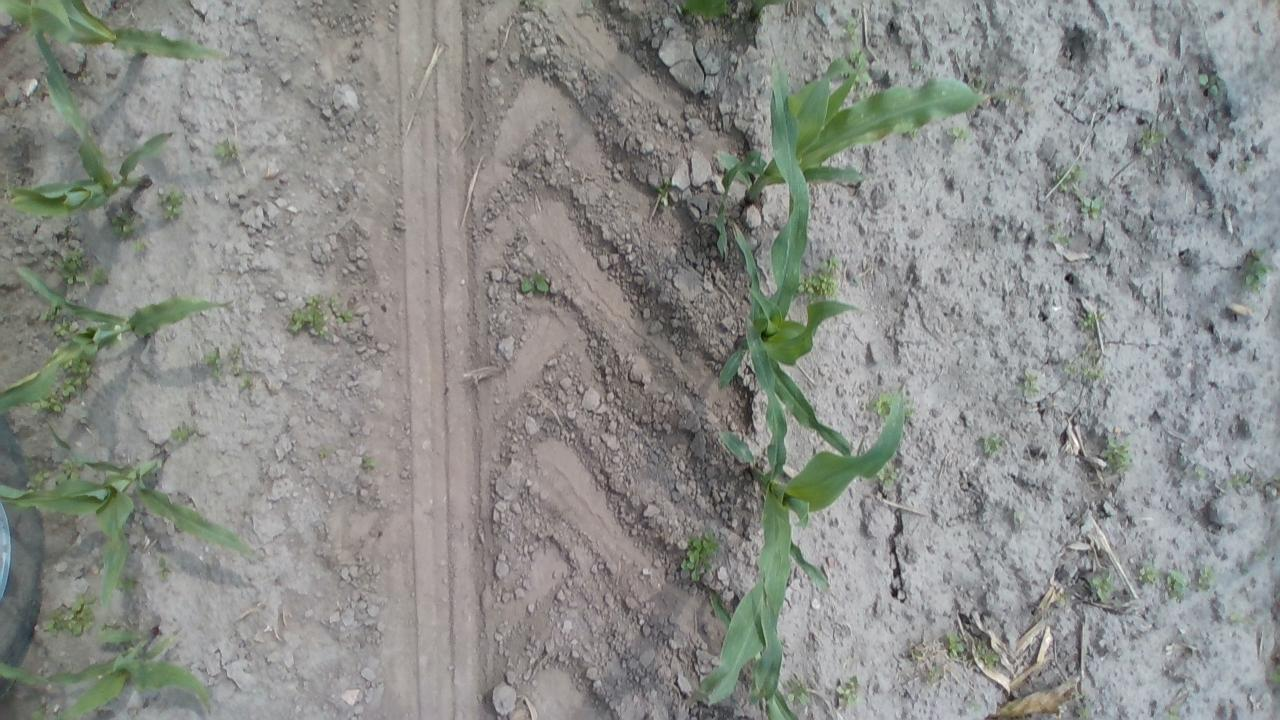Maize: (694, 316, 911, 712), (708, 42, 1024, 255), (716, 90, 862, 458), (0, 428, 260, 632), (0, 254, 230, 422), (1, 27, 178, 219), (1, 6, 202, 161), (0, 622, 211, 718), (0, 0, 227, 84), (703, 578, 809, 719), (680, 0, 792, 20)
Weeds: (283, 290, 358, 342), (40, 595, 100, 640), (679, 526, 723, 584), (49, 362, 93, 408), (802, 254, 844, 301), (1236, 244, 1273, 297), (1064, 350, 1106, 383), (1100, 436, 1134, 476), (838, 50, 871, 90), (55, 252, 88, 290), (42, 307, 78, 341), (1051, 160, 1087, 192), (516, 266, 552, 297), (1086, 570, 1118, 604), (972, 635, 1002, 670), (159, 186, 187, 222), (1163, 567, 1189, 603), (1137, 124, 1168, 154), (836, 676, 866, 706), (782, 679, 814, 706), (979, 429, 1008, 458), (54, 458, 85, 485), (109, 212, 138, 240), (870, 389, 896, 420), (203, 346, 226, 381), (1192, 562, 1216, 595), (1078, 192, 1106, 219), (170, 421, 200, 446), (941, 630, 966, 660), (1136, 557, 1160, 588), (216, 136, 242, 164), (654, 176, 676, 209), (942, 124, 974, 146), (876, 461, 900, 490), (1046, 224, 1072, 250), (1078, 309, 1104, 335), (1198, 68, 1222, 96), (1018, 367, 1040, 396), (154, 554, 174, 582), (1228, 468, 1252, 490), (839, 17, 860, 41), (1072, 694, 1092, 718), (90, 266, 114, 285), (115, 576, 140, 594), (1226, 611, 1252, 628), (924, 664, 946, 684), (24, 468, 48, 486), (29, 703, 54, 719), (357, 453, 378, 472), (906, 642, 928, 660), (314, 444, 336, 462), (902, 392, 916, 420), (1159, 703, 1185, 718), (908, 58, 926, 78), (1264, 661, 1276, 689), (1190, 464, 1208, 480), (226, 342, 241, 360), (518, 0, 538, 13), (0, 180, 14, 198), (132, 240, 148, 255), (97, 619, 118, 630), (238, 376, 252, 390), (1256, 546, 1268, 560), (972, 78, 986, 90), (1056, 594, 1068, 606), (909, 126, 919, 138), (757, 10, 765, 25), (232, 368, 241, 376)
